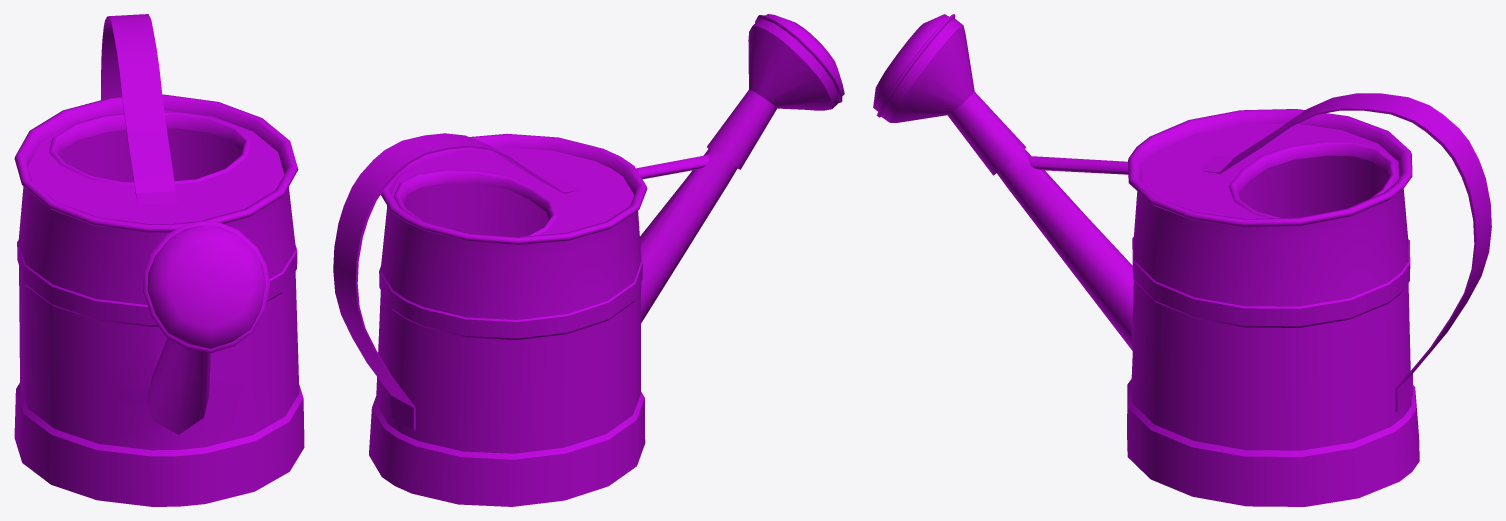
The model's file is arosoire.fbx.
3 views of the same model, side by side, from view 1: azimuth 30°, elevation 25°; view 2: azimuth 150°, elevation 25°; view 3: azimuth 270°, elevation 25° (orthographic). The views are drawn at different scales.
Visible parts, largest first — view 1: arrosoire; view 2: arrosoire; view 3: arrosoire.
Part boxes in pixels (left/top/right/bottom): arrosoire: left=14, top=14, right=304, bottom=506; arrosoire: left=333, top=14, right=844, bottom=506; arrosoire: left=873, top=14, right=1491, bottom=506.
Size of the model in its own units: 0.0583 by 0.0671 by 0.1022.
